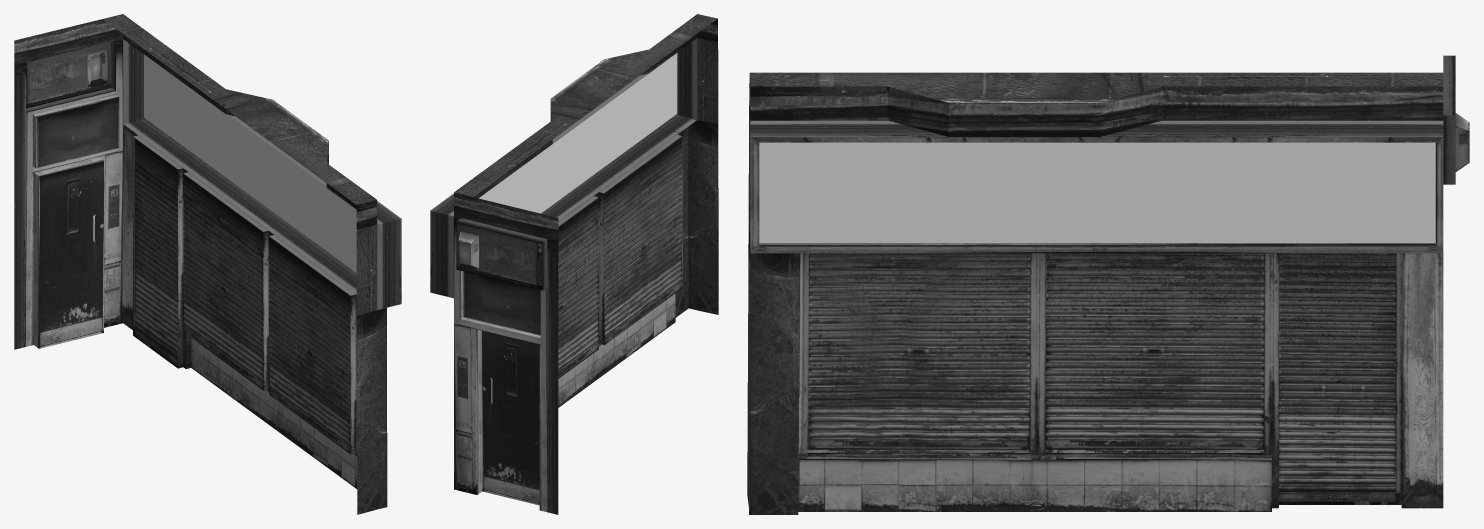
The model's file is downtown_noodles.fbx.
3 views of the same model, side by side, from view 1: azimuth 30°, elevation 25°; view 2: azimuth 150°, elevation 25°; view 3: azimuth 270°, elevation 25° (orthographic). The views are drawn at different scales.
Visible parts, largest first — view 1: monsoon; view 2: monsoon; view 3: monsoon.
Part boxes in pixels (x1,y1,x2,y2): monsoon: (14,14,401,514); monsoon: (430,14,718,514); monsoon: (747,55,1469,514).
Bounding box in the file's own units: 206 × 456 × 707.
